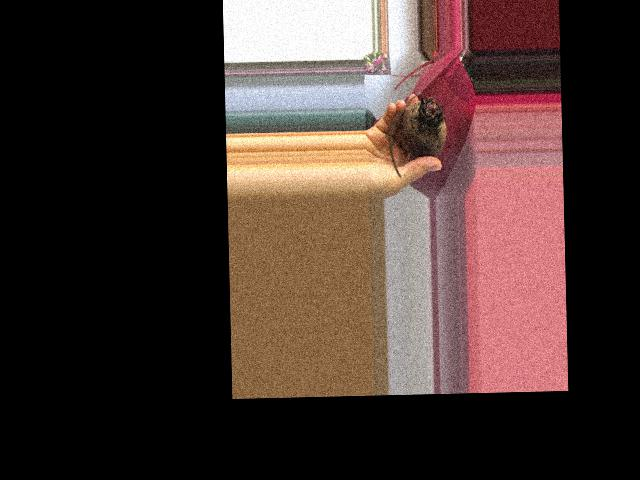beet: (388, 90, 447, 177)
